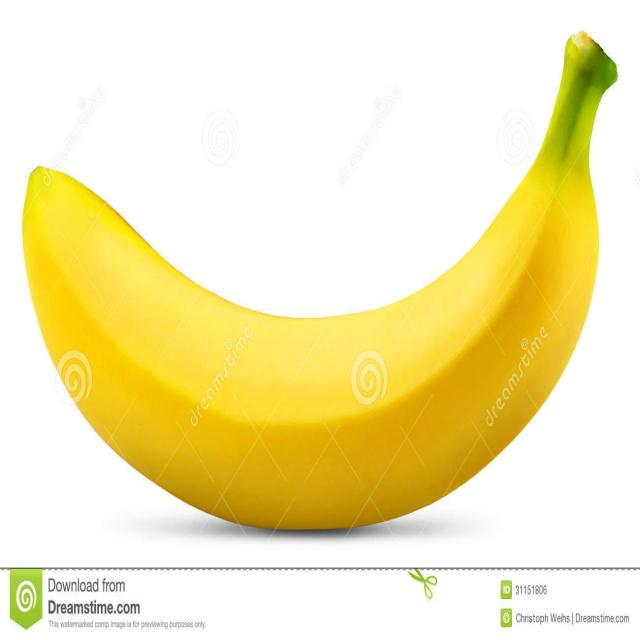banana: (23, 28, 620, 534)
